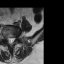CCS_normal: (10, 35, 12, 45)
LFS_stenosis: (15, 34, 17, 41)
LLS_normal: (12, 35, 15, 43)
RFS_severe_stenosis: (5, 34, 7, 41)
RLS_normal: (7, 35, 10, 44)
